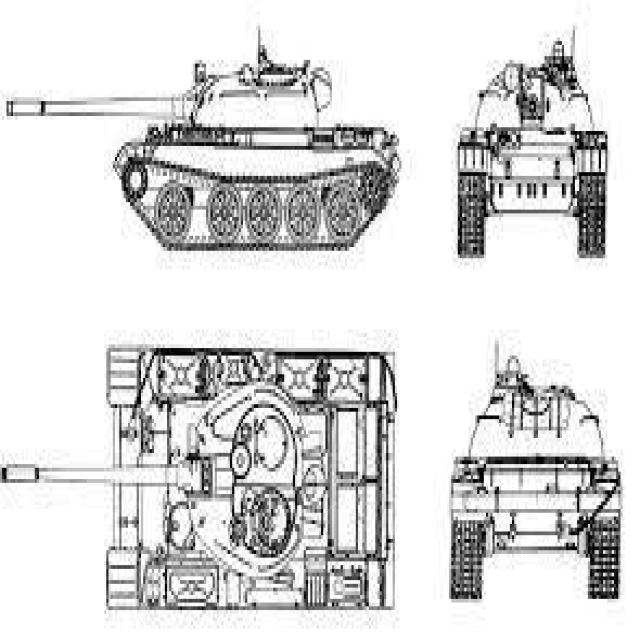Tanks: (75, 342, 398, 616), (16, 56, 405, 255), (446, 358, 621, 604), (456, 58, 608, 264)
